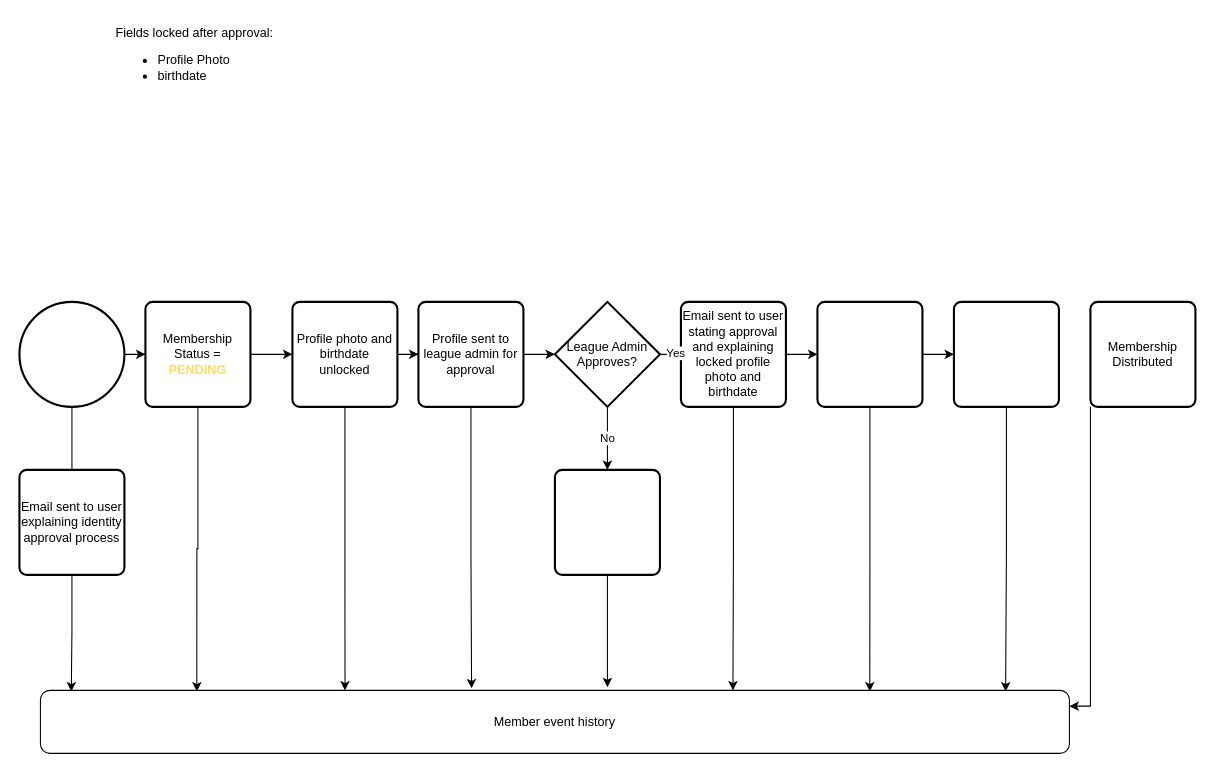
Image size: 1214x772. Some labels were removed from this diagram. Each missing label, with the centre of its shape:
Email sent to user with comments: the point at 606,521
Membership Status = VERIFIED: the point at 869,353
Player Registers for Membership: the point at 71,353
Profile photo and birthdate locked: the point at 1005,353
